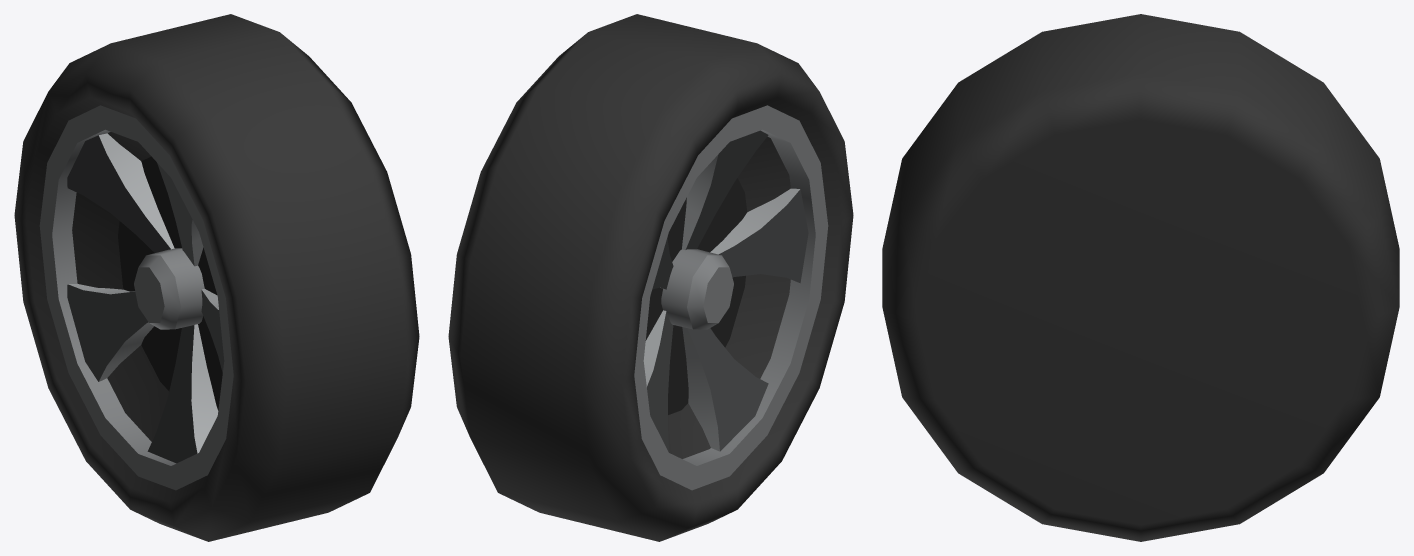
Rendered from CarWheel2.fbx.
3 renders of one model, left to right at view 1: azimuth 30°, elevation 25°; view 2: azimuth 150°, elevation 25°; view 3: azimuth 270°, elevation 25°, orthographic.
Visible parts, largest first — view 1: Car_13_Wheel_Front_Left.001; view 2: Car_13_Wheel_Front_Left.001; view 3: Car_13_Wheel_Front_Left.001.
Part boxes in pixels (x1,y1,x2,y2): Car_13_Wheel_Front_Left.001: [14, 14, 419, 541]; Car_13_Wheel_Front_Left.001: [448, 14, 853, 541]; Car_13_Wheel_Front_Left.001: [882, 14, 1399, 541].
Bounding box in the file's own units: 49.79 × 123 × 123.
2 materials, 2 textured.
